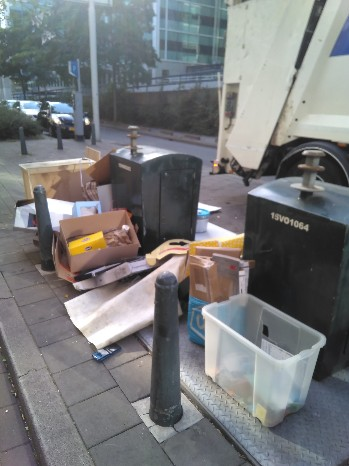Container: (255, 174, 349, 309), (117, 149, 209, 246)
Papier: (49, 218, 148, 263)
Plastic: (209, 308, 305, 425)
Rest: (88, 263, 179, 335), (31, 157, 111, 197), (49, 185, 101, 230), (189, 260, 229, 309)
Voertuig: (218, 11, 349, 158), (31, 90, 84, 138)
